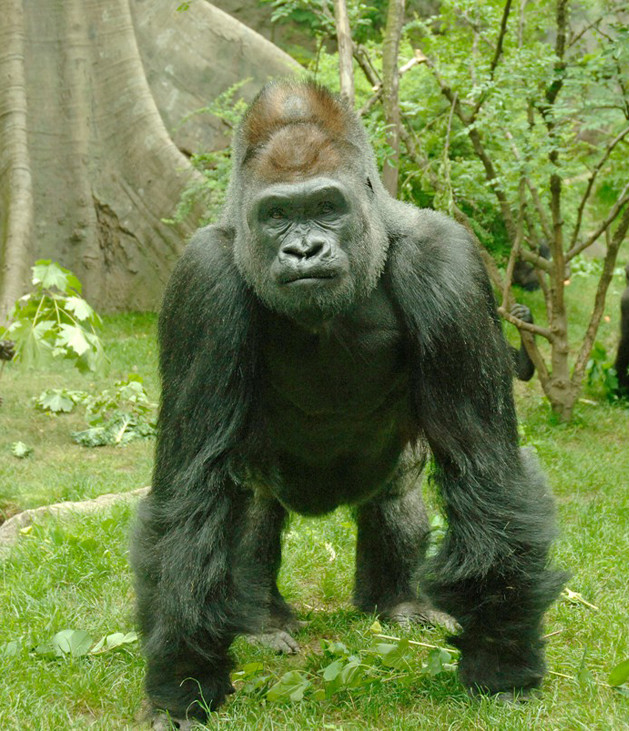ape: (131, 74, 572, 726)
